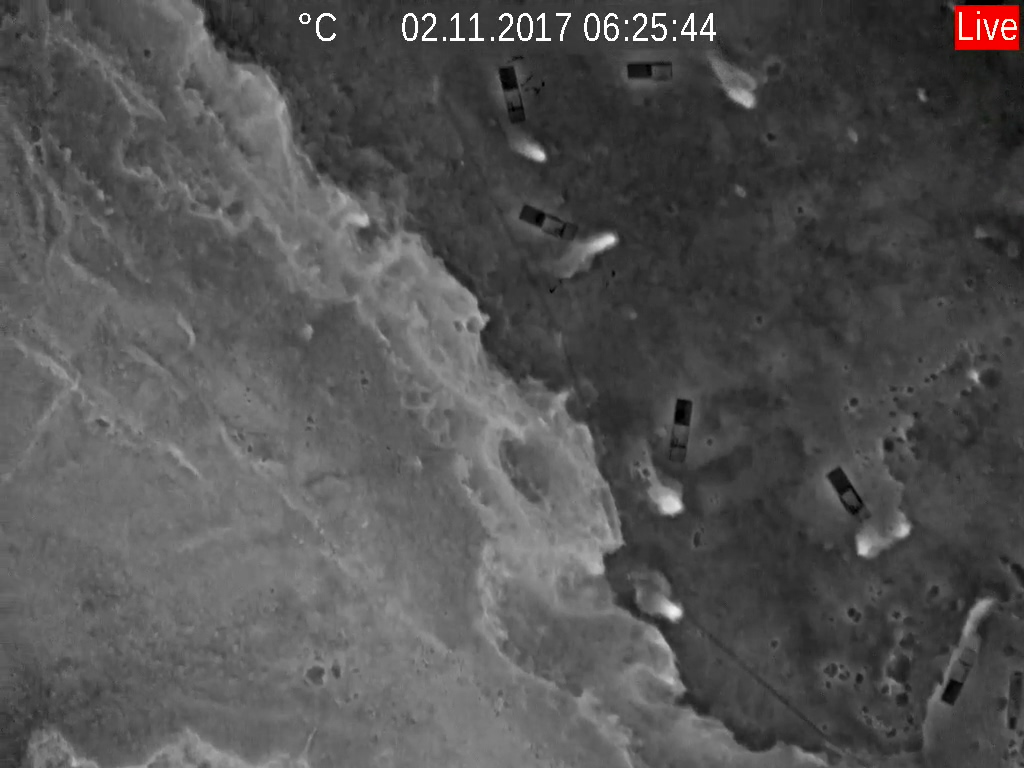warren: (704, 51, 762, 112), (845, 522, 918, 558), (636, 467, 686, 519), (634, 577, 684, 625), (506, 125, 551, 168), (581, 226, 618, 259)
